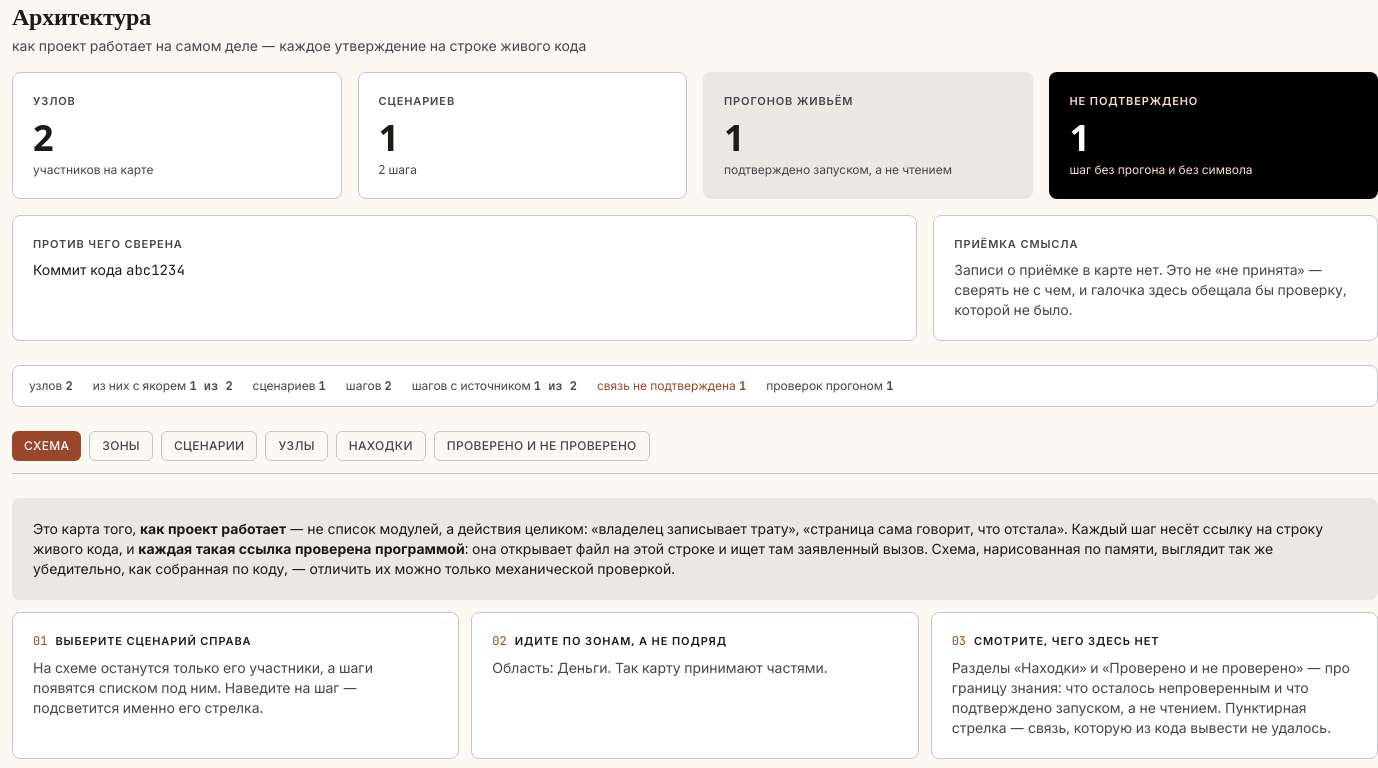
Test case: ArchitectureView › клик по зоне ведёт в её сценарии
Click the button "Зоны".
click(121, 446)  # box left=89, top=431, right=153, bottom=461
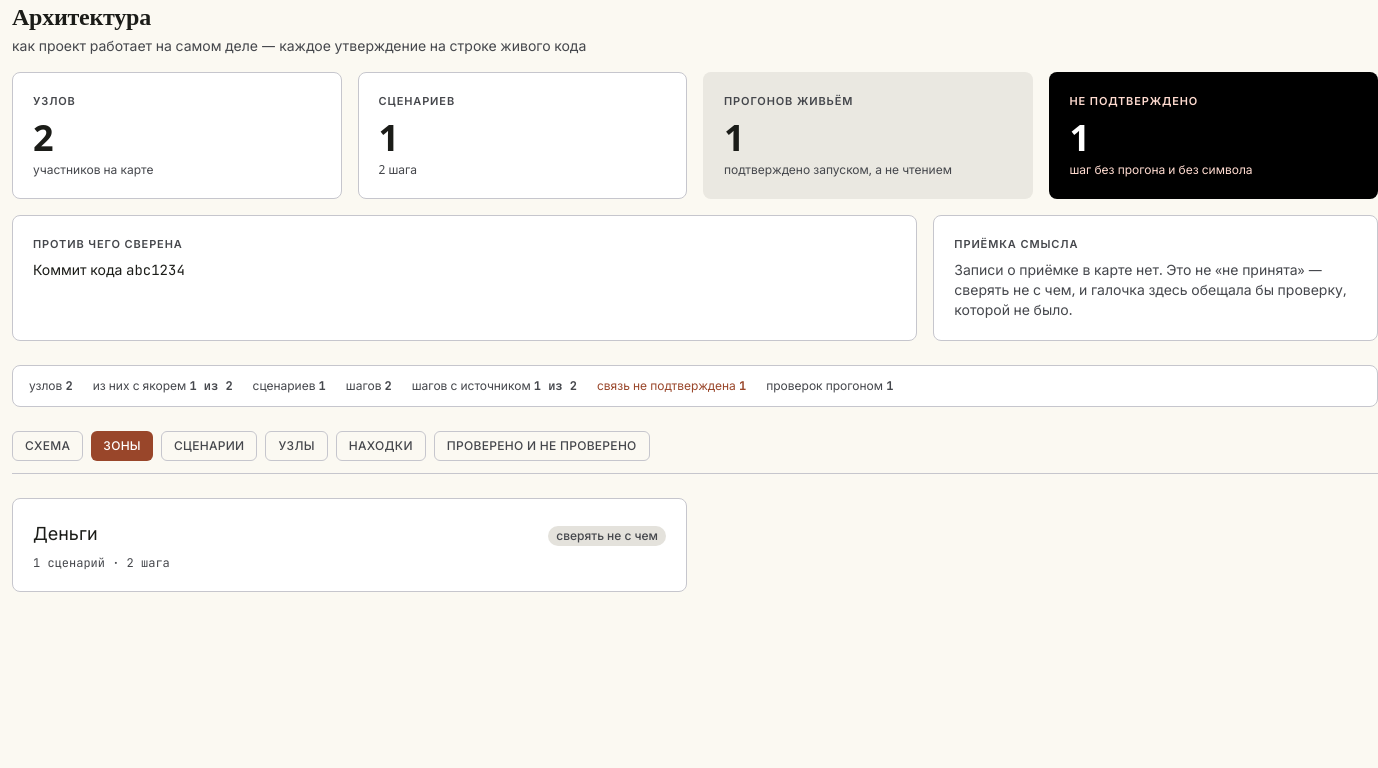
Click the button titled "Показать сценарии этой зоны".
click(65, 533)  # box left=33, top=519, right=98, bottom=547
(page scrolled)
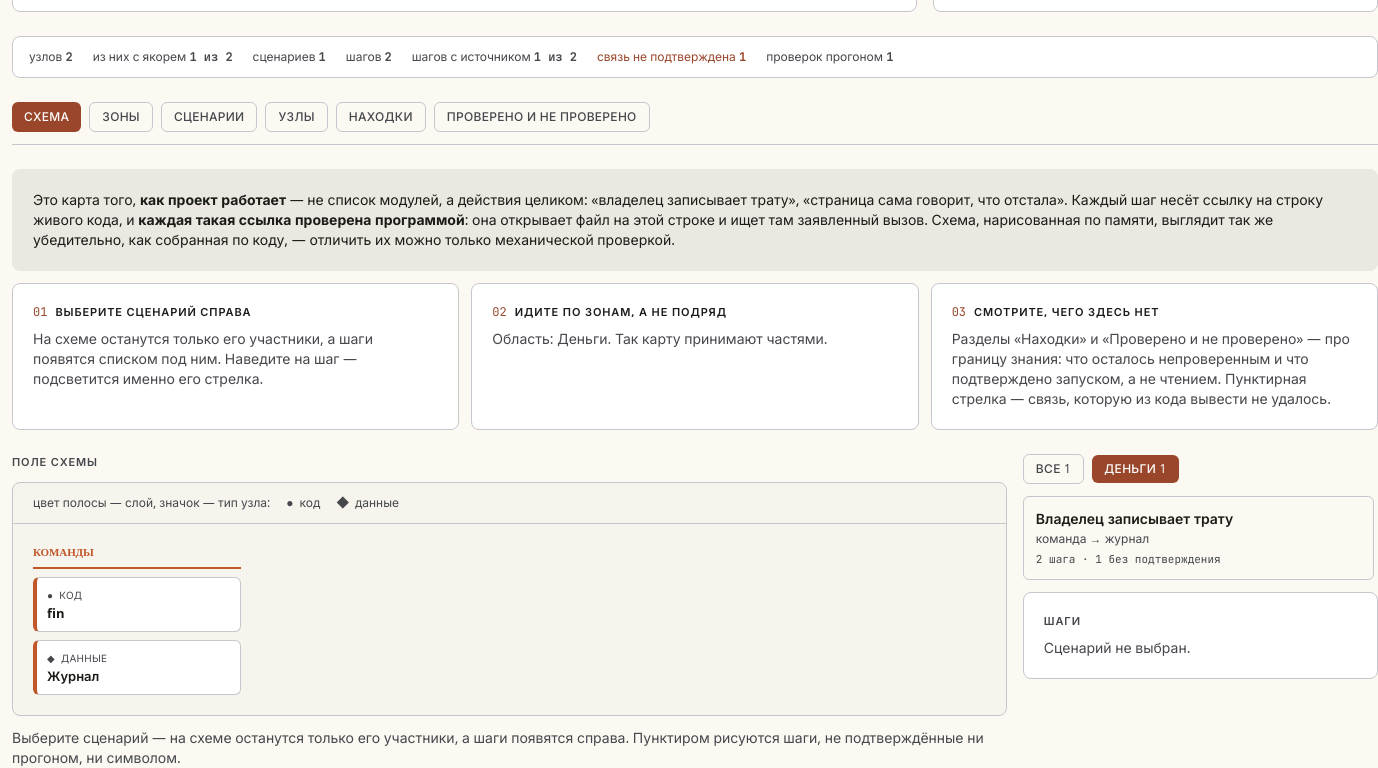
Expected: the text "Владелец записывает трату" is shown, left=1036, top=508, right=1233, bottom=528
